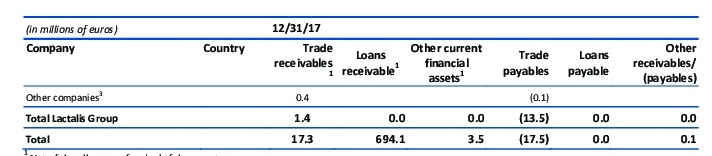table: (0, 0, 712, 156)
